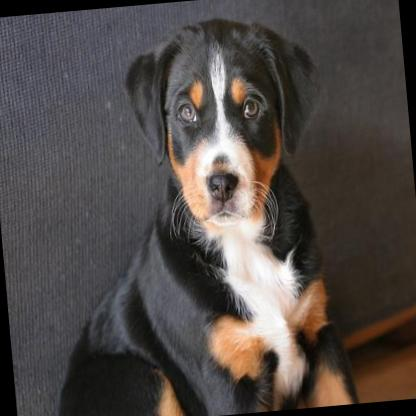Appenzeller: (30, 8, 349, 416)
